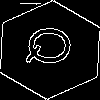Q: (25, 25, 82, 67)
